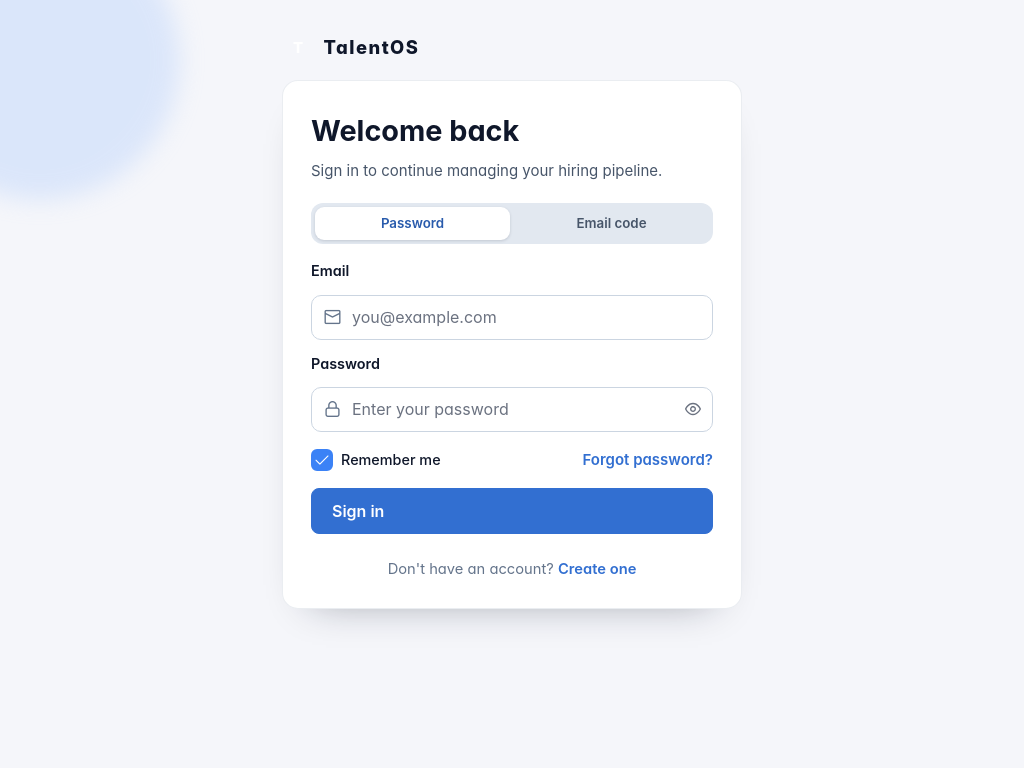
Test: SignIn view: email code (OTP) › lets the user go back to change the email
Click the tab "Email code". click: (612, 224)
box: [514,207,709,240]
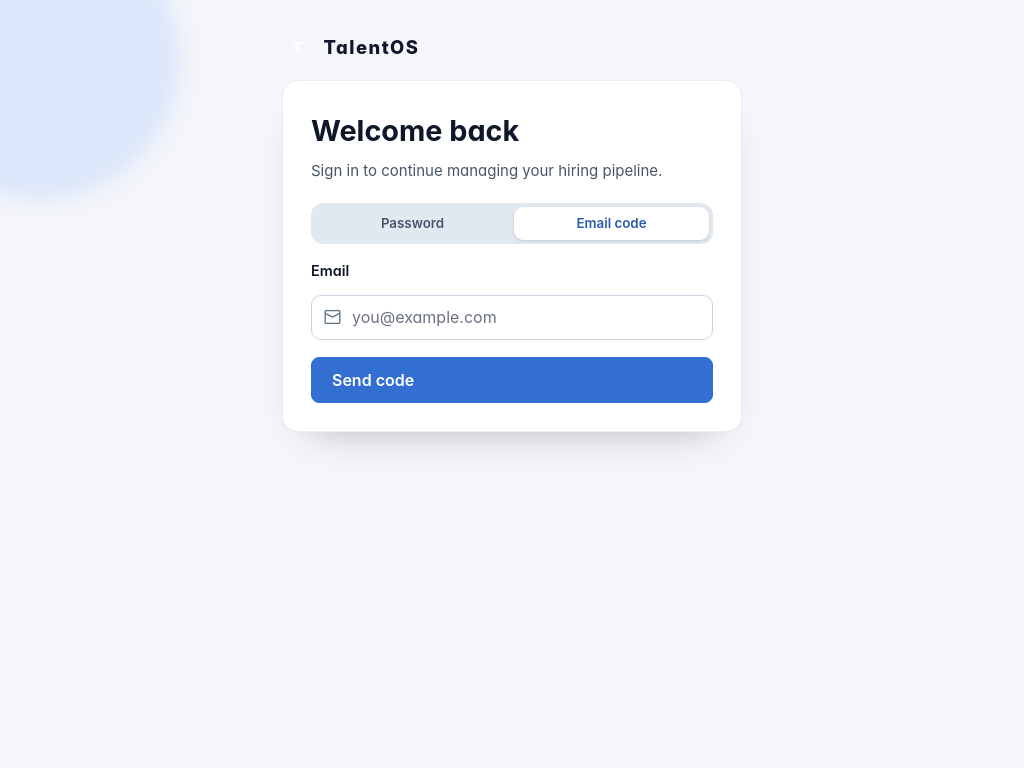
Type "ada@example.com" into the field with id "otp-email". click: (512, 317)
box: [311,295,713,340]
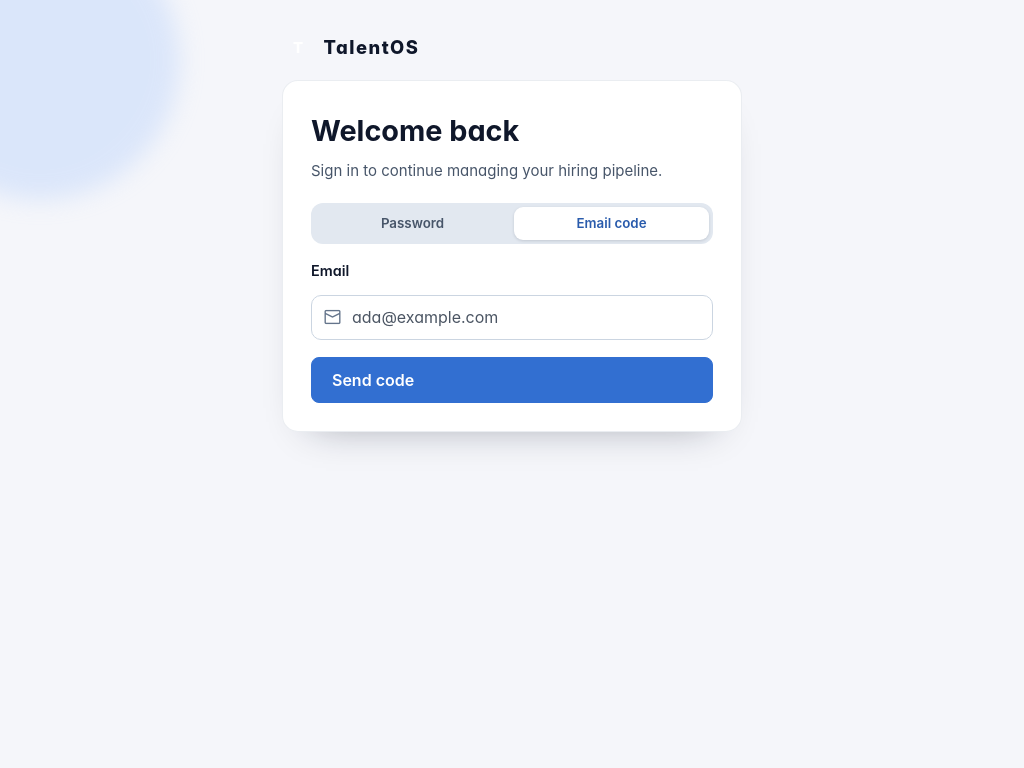
Submit the form, box [311,260,713,402]
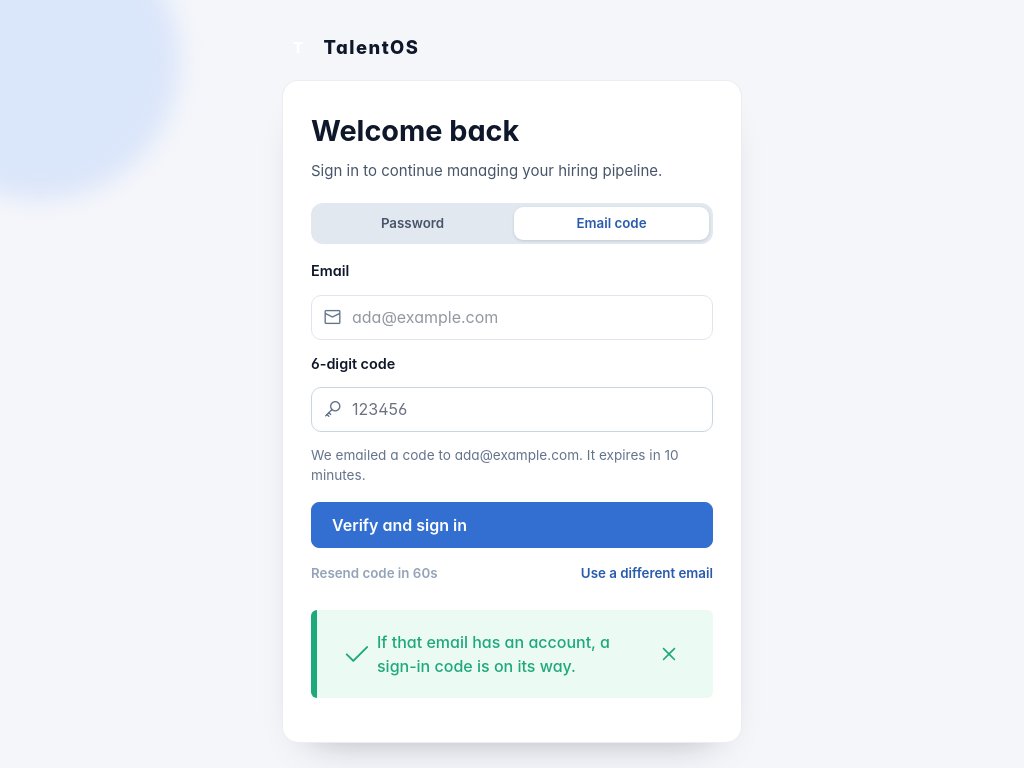
Click the button with class "link-button" showing "Use a different email". click: (647, 573)
box: [581,565,713,581]
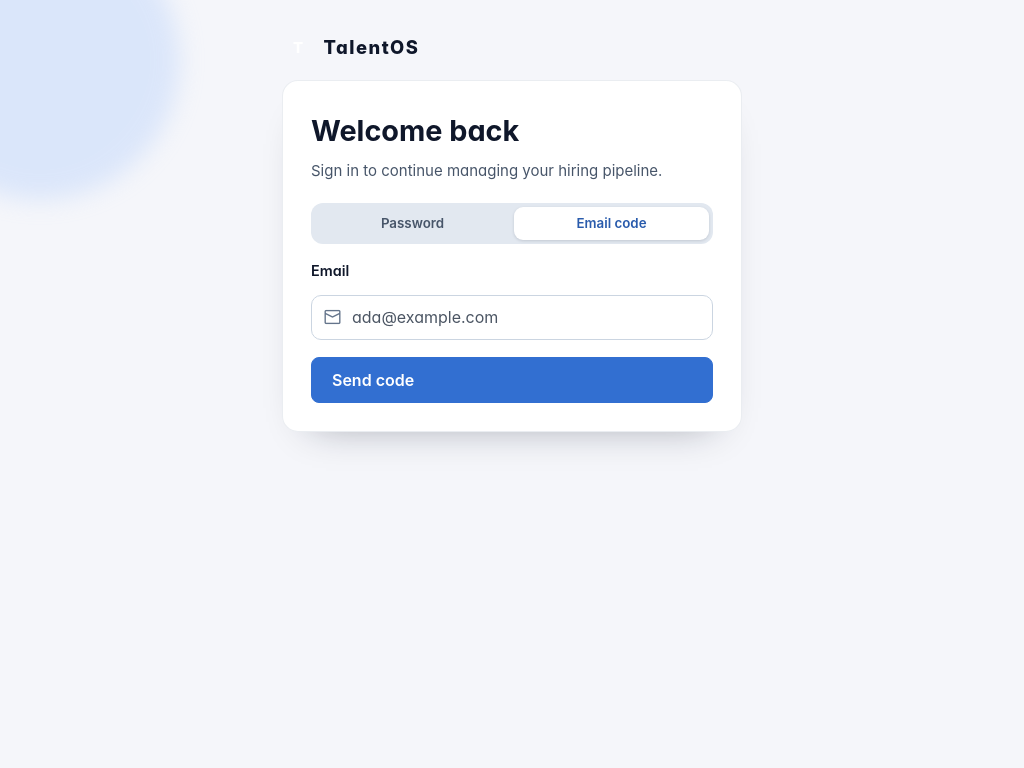
Result: the field with id "otp-email" is enabled at [311,295,713,340]
